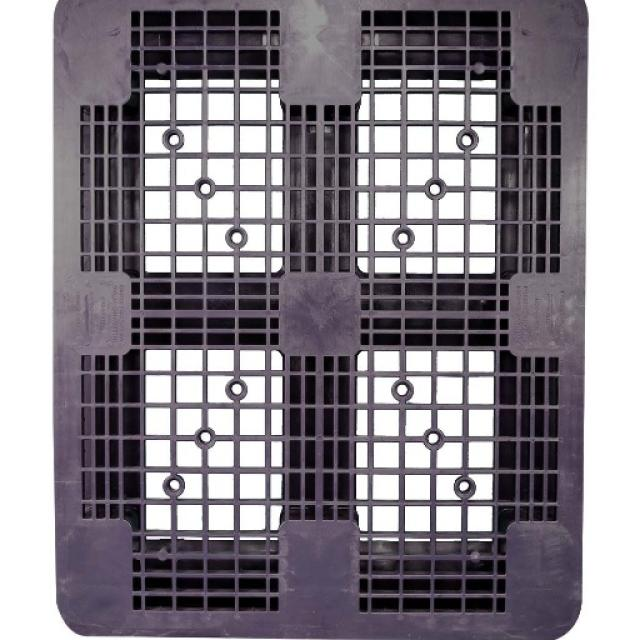non-igps: (38, 0, 594, 640)
